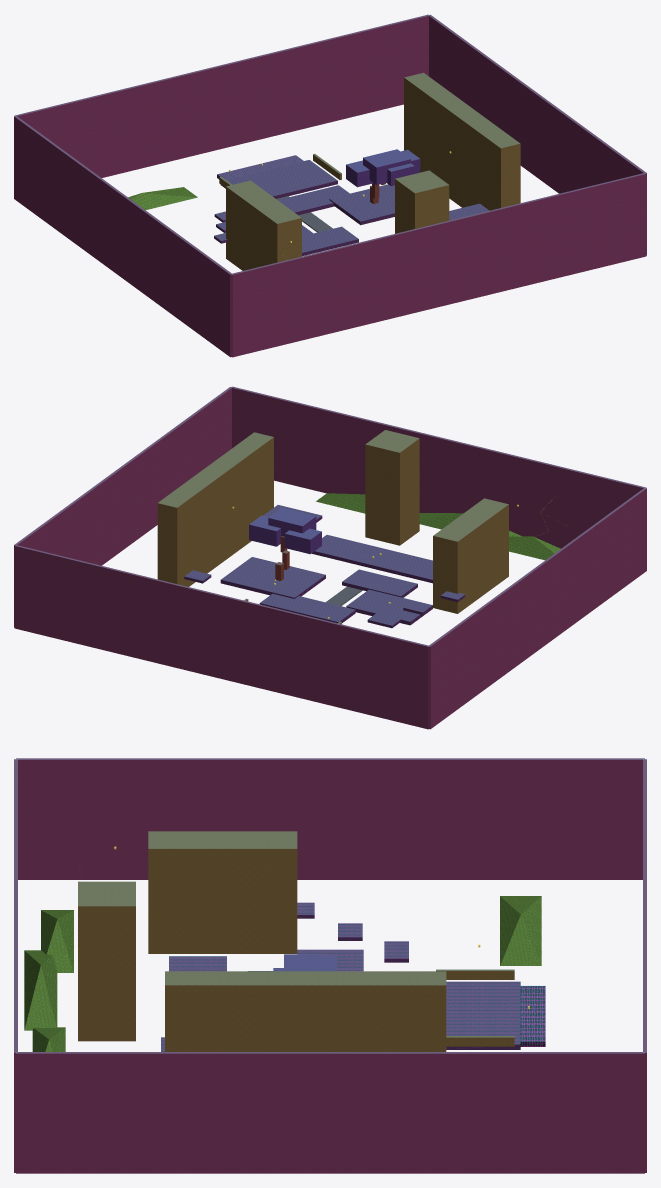
Rendered from neon-backstreets.glb.
3 renders of one model, top to bottom at view 1: azimuth 30°, elevation 25°; view 2: azimuth 150°, elevation 25°; view 3: azimuth 270°, elevation 25°, orthographic. The views are drawn at different scales.
Parts seen in each view (by area): view 1: ART_neon-backstreets_psychedelic_horizon_north_wall, ART_neon-backstreets_psychedelic_horizon_south_wall, ART_neon-backstreets_psychedelic_sky_west_wall, ART_neon-backstreets_psychedelic_sky_east_wall, ART_neon-backstreets_right_wave_wall, ART_neon-backstreets_left_glowing_tower, ART_neon-backstreets_rear_glowing_tower, ART_neon-backstreets_floating_platform_entry, WALKABLE_neon-backstreets_floating_platform_entry, WALKABLE_neon-backstreets_right_wave_wall, ART_neon-backstreets_floating_platform_tree_island, WALKABLE_neon-backstreets_floating_platform_tree_island (+15 smaller); view 2: ART_neon-backstreets_psychedelic_horizon_south_wall, ART_neon-backstreets_psychedelic_horizon_north_wall, ART_neon-backstreets_psychedelic_sky_west_wall, ART_neon-backstreets_psychedelic_sky_east_wall, ART_neon-backstreets_right_wave_wall, ART_neon-backstreets_left_glowing_tower, ART_neon-backstreets_rear_glowing_tower, ART_neon-backstreets_floating_platform_far_bridge, ART_neon-backstreets_floating_platform_tree_island, WALKABLE_neon-backstreets_floating_platform_far_bridge, WALKABLE_neon-backstreets_floating_platform_tree_island, WALKABLE_neon-backstreets_right_wave_wall (+18 smaller); view 3: ART_neon-backstreets_psychedelic_sky_east_wall, ART_neon-backstreets_psychedelic_sky_west_wall, ART_neon-backstreets_right_wave_wall, ART_neon-backstreets_left_glowing_tower, ART_neon-backstreets_rear_glowing_tower, ART_neon-backstreets_floating_platform_entry, WALKABLE_neon-backstreets_floating_platform_entry, WALKABLE_neon-backstreets_right_wave_wall, ART_neon-backstreets_cloud_low_violet, WALKABLE_neon-backstreets_left_glowing_tower, ART_neon-backstreets_cloud_ember_center, ART_neon-backstreets_cloud_ember_left (+18 smaller).
Part boxes in pixels (x1,y1,x2,y2): ART_neon-backstreets_psychedelic_horizon_north_wall: (231, 173, 646, 357); ART_neon-backstreets_psychedelic_horizon_south_wall: (14, 14, 428, 177); ART_neon-backstreets_psychedelic_sky_west_wall: (14, 116, 231, 357); ART_neon-backstreets_psychedelic_sky_east_wall: (429, 15, 646, 255); ART_neon-backstreets_right_wave_wall: (404, 73, 520, 210); ART_neon-backstreets_left_glowing_tower: (226, 180, 301, 270); ART_neon-backstreets_rear_glowing_tower: (395, 170, 449, 233); ART_neon-backstreets_floating_platform_entry: (221, 160, 337, 198); WALKABLE_neon-backstreets_floating_platform_entry: (227, 160, 336, 195); WALKABLE_neon-backstreets_right_wave_wall: (405, 73, 519, 147); ART_neon-backstreets_floating_platform_tree_island: (329, 184, 394, 225); WALKABLE_neon-backstreets_floating_platform_tree_island: (330, 184, 394, 220); ART_neon-backstreets_psychedelic_horizon_south_wall: (14, 545, 429, 729); ART_neon-backstreets_psychedelic_horizon_north_wall: (231, 386, 646, 548); ART_neon-backstreets_psychedelic_sky_west_wall: (429, 488, 646, 729); ART_neon-backstreets_psychedelic_sky_east_wall: (14, 387, 231, 627); ART_neon-backstreets_right_wave_wall: (157, 432, 273, 586); ART_neon-backstreets_left_glowing_tower: (433, 498, 508, 613); ART_neon-backstreets_rear_glowing_tower: (365, 430, 419, 545); ART_neon-backstreets_floating_platform_far_bridge: (312, 535, 432, 583); ART_neon-backstreets_floating_platform_tree_island: (220, 557, 325, 598); WALKABLE_neon-backstreets_floating_platform_far_bridge: (316, 535, 432, 579); WALKABLE_neon-backstreets_floating_platform_tree_island: (221, 557, 324, 597); WALKABLE_neon-backstreets_right_wave_wall: (158, 432, 272, 507); ART_neon-backstreets_psychedelic_sky_east_wall: (16, 1052, 644, 1173); ART_neon-backstreets_psychedelic_sky_west_wall: (16, 758, 644, 879); ART_neon-backstreets_right_wave_wall: (165, 971, 446, 1051); ART_neon-backstreets_left_glowing_tower: (148, 831, 297, 953); ART_neon-backstreets_rear_glowing_tower: (78, 881, 135, 1041); ART_neon-backstreets_floating_platform_entry: (446, 981, 520, 1049); WALKABLE_neon-backstreets_floating_platform_entry: (446, 982, 520, 1044); WALKABLE_neon-backstreets_right_wave_wall: (165, 971, 445, 985); ART_neon-backstreets_cloud_low_violet: (500, 896, 541, 965); WALKABLE_neon-backstreets_left_glowing_tower: (148, 831, 296, 848); ART_neon-backstreets_cloud_ember_center: (24, 950, 57, 1030); ART_neon-backstreets_cloud_ember_left: (41, 910, 73, 972).
Size of what is drawn, in the model's own units: 84.5 by 32.14 by 76.5.
10 materials, 8 textured.
